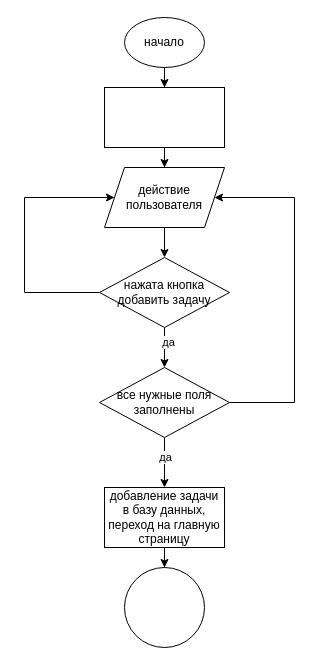
Some shapes in this 320 by 665 pixel diagram are drawn without their labels. Each missing label, with the centre of its shape:
вход на страницу добавления задачи: the point at 164,117
конец: the point at 164,607
